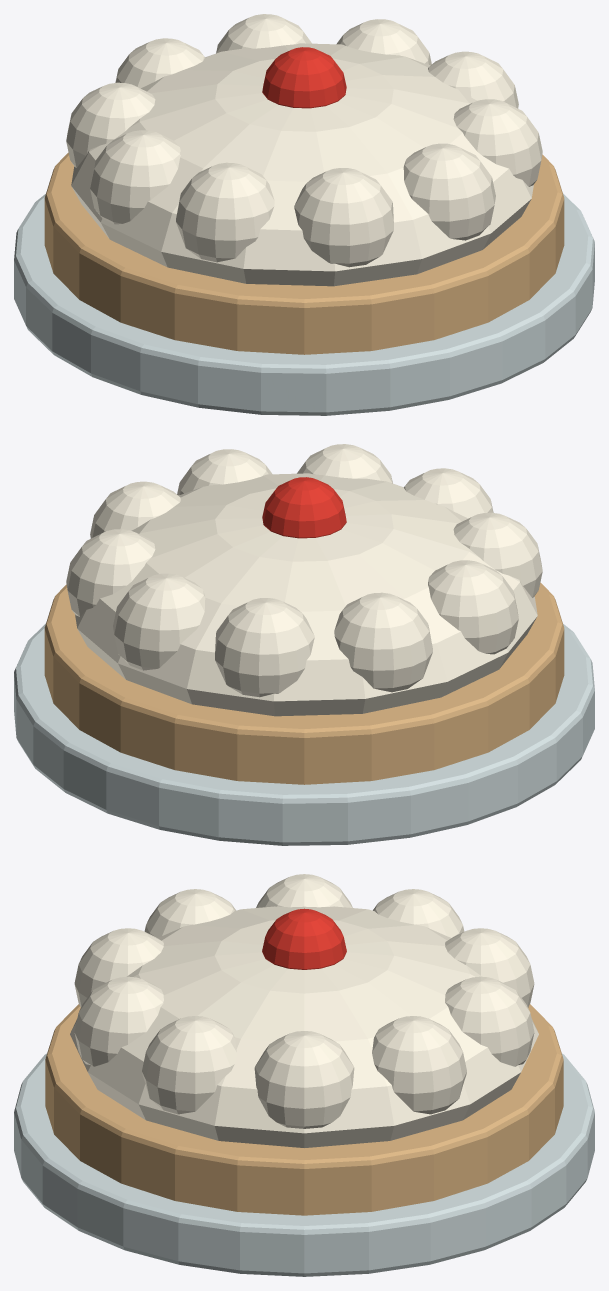
File: P042_cream_pie.glb
3 renders of one model, top to bottom at view 1: azimuth 30°, elevation 25°; view 2: azimuth 150°, elevation 25°; view 3: azimuth 270°, elevation 25°, orthographic.
Visible parts, largest first — view 1: P042_cream_003, P042_dish_001, P042_crust_002, P042_cream_dollop_011, P042_cream_dollop_010, P042_cream_dollop_012, P042_cream_dollop_009, P042_cream_dollop_013, P042_cream_dollop_008, P042_cherry_014, P042_cream_dollop_004, P042_cream_dollop_007 (+2 smaller); view 2: P042_cream_003, P042_dish_001, P042_crust_002, P042_cream_dollop_007, P042_cream_dollop_008, P042_cream_dollop_006, P042_cream_dollop_009, P042_cream_dollop_005, P042_cream_dollop_010, P042_cherry_014, P042_cream_dollop_004, P042_cream_dollop_011 (+2 smaller); view 3: P042_cream_003, P042_dish_001, P042_crust_002, P042_cream_dollop_004, P042_cream_dollop_005, P042_cream_dollop_013, P042_cream_dollop_006, P042_cream_dollop_012, P042_cherry_014, P042_cream_dollop_007, P042_cream_dollop_011, P042_cream_dollop_008 (+2 smaller).
Boxes of the visible parts, x1,y1,x2,y2 form: P042_cream_003: (71,43,533,286); P042_dish_001: (14,193,594,415); P042_crust_002: (44,152,564,354); P042_cream_dollop_011: (294,168,393,267); P042_cream_dollop_010: (176,162,274,262); P042_cream_dollop_012: (403,143,495,240); P042_cream_dollop_009: (90,130,180,224); P042_cream_dollop_013: (453,99,542,186); P042_cream_dollop_008: (66,82,155,167); P042_cherry_014: (262,47,346,108); P042_cream_dollop_004: (428,51,518,108); P042_cream_dollop_007: (115,38,204,88); P042_cream_003: (75,473,537,716); P042_dish_001: (14,623,594,845); P042_crust_002: (44,582,564,784); P042_cream_dollop_007: (215,598,314,697); P042_cream_dollop_008: (334,592,432,692); P042_cream_dollop_006: (113,573,205,670); P042_cream_dollop_009: (428,560,518,654); P042_cream_dollop_005: (66,529,155,616); P042_cream_dollop_010: (453,512,542,597); P042_cherry_014: (262,477,346,538); P042_cream_dollop_004: (90,481,180,538); P042_cream_dollop_011: (404,468,493,518); P042_cream_003: (70,906,538,1147); P042_dish_001: (14,1053,594,1276); P042_crust_002: (45,1004,563,1215); P042_cream_dollop_004: (254,1031,354,1128); P042_cream_dollop_005: (372,1016,466,1114); P042_cream_dollop_013: (142,1016,236,1114); P042_cream_dollop_006: (445,976,534,1066); P042_cream_dollop_012: (74,976,163,1066); P042_cherry_014: (262,908,346,969); P042_cream_dollop_007: (445,928,534,1007); P042_cream_dollop_011: (74,928,163,1007); P042_cream_dollop_008: (373,889,464,937).
Bounding box in the file's own units: 0.26 × 0.1205 × 0.26.
